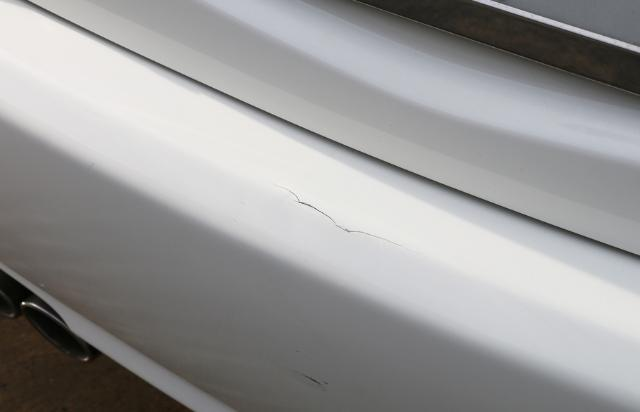Bumper: (186, 119, 515, 392)
